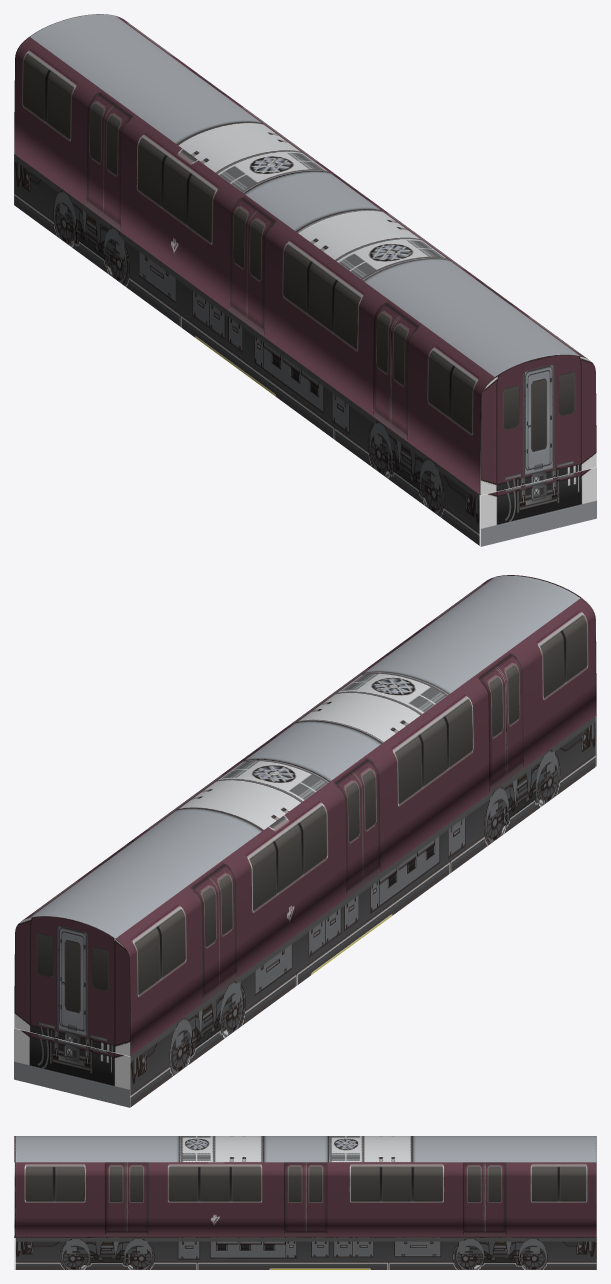
The model's file is car2.glb.
3 renders of one model, top to bottom at view 1: azimuth 30°, elevation 25°; view 2: azimuth 150°, elevation 25°; view 3: azimuth 270°, elevation 25°, orthographic. The views are drawn at different scales.
Visible parts, largest first — view 1: hankyu-1000-car2; view 2: hankyu-1000-car2; view 3: hankyu-1000-car2.
Part boxes in pixels (bbox=[...]): hankyu-1000-car2: bbox=[14, 14, 596, 546]; hankyu-1000-car2: bbox=[14, 575, 596, 1107]; hankyu-1000-car2: bbox=[14, 1136, 596, 1269].
Size of the model in its own units: 2.73 by 3.9 by 19.03.
9 materials, 8 textured.
